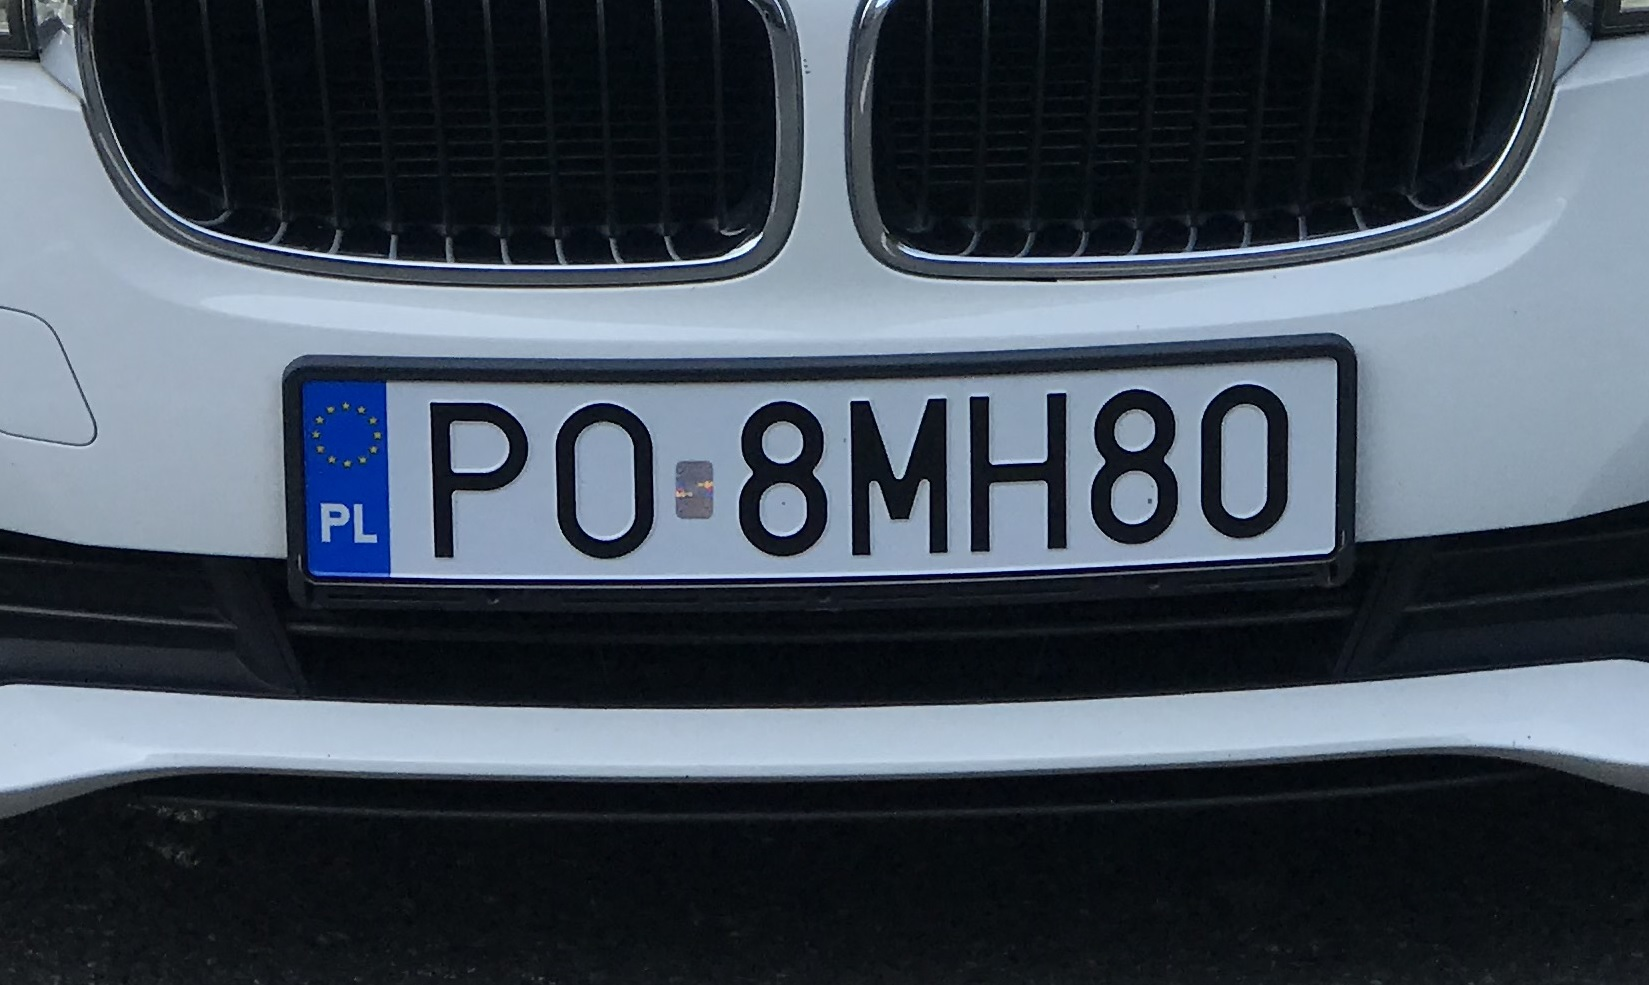tablica: (295, 367, 1349, 577)
